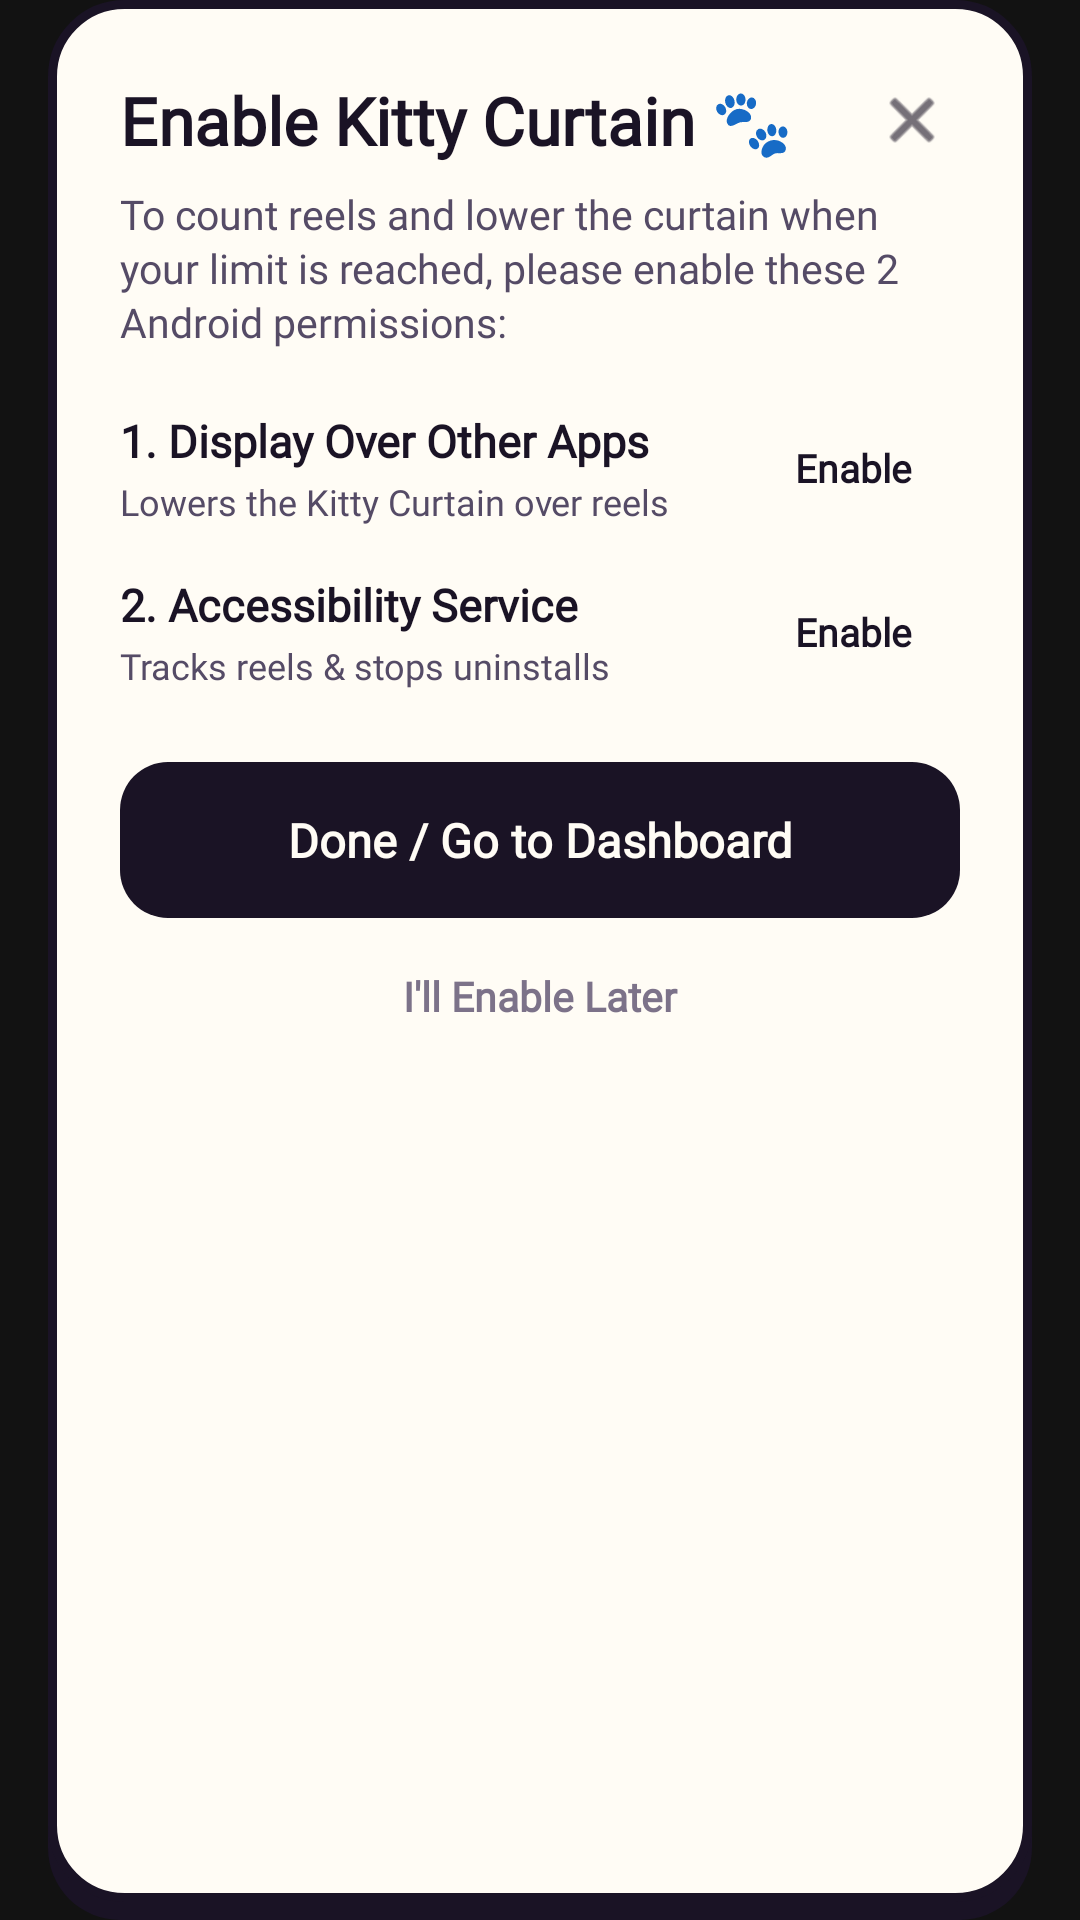

Named icons in this screenshot (1080px x 1920px) and their bounding boxes, (x1, y1, x2, y2):
Close: (889, 97, 935, 143)
